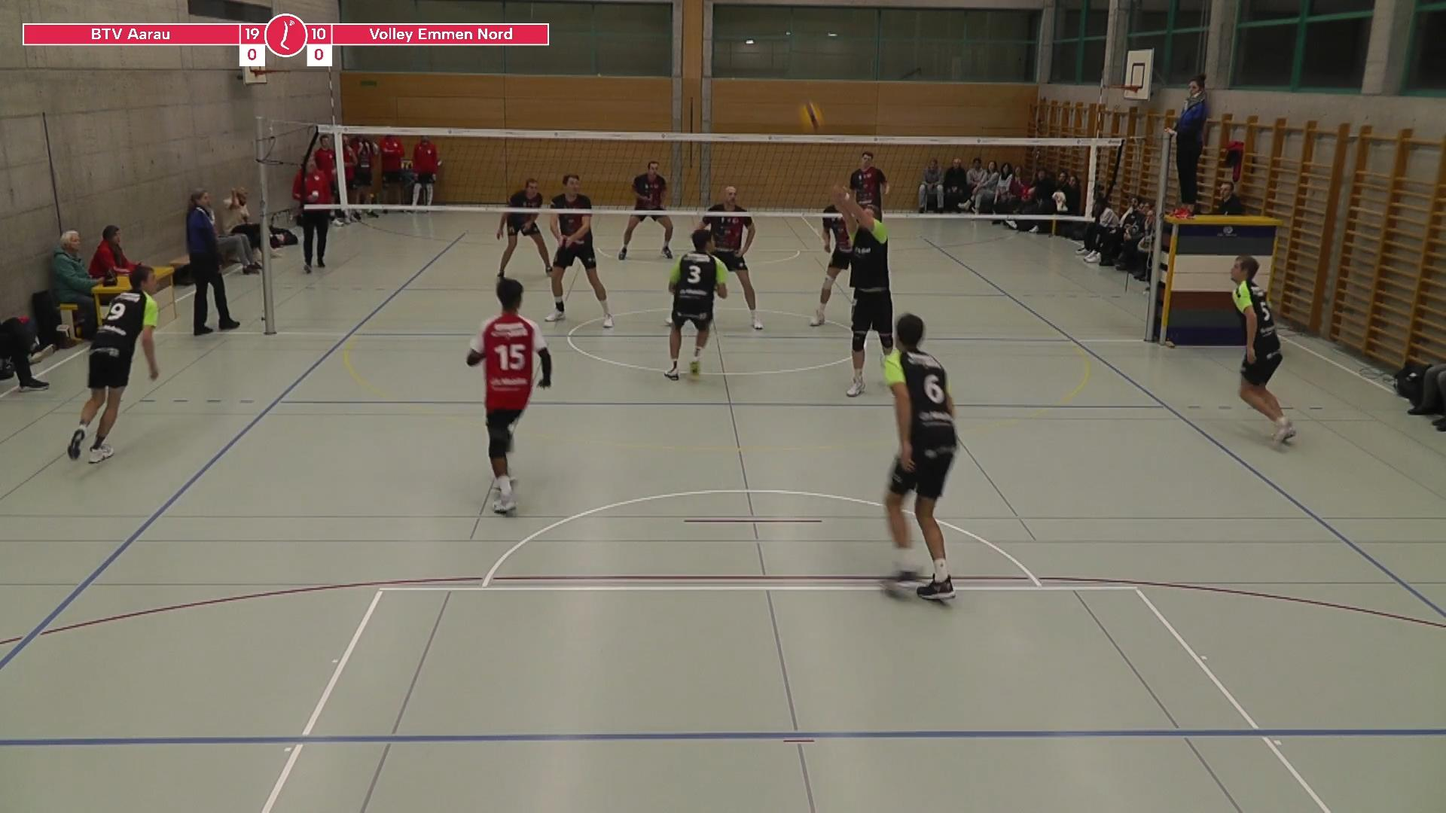alzata: (813, 177, 913, 397)
